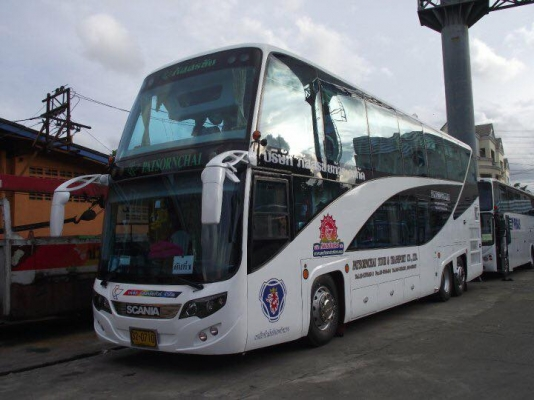bus: (90, 41, 483, 355)
